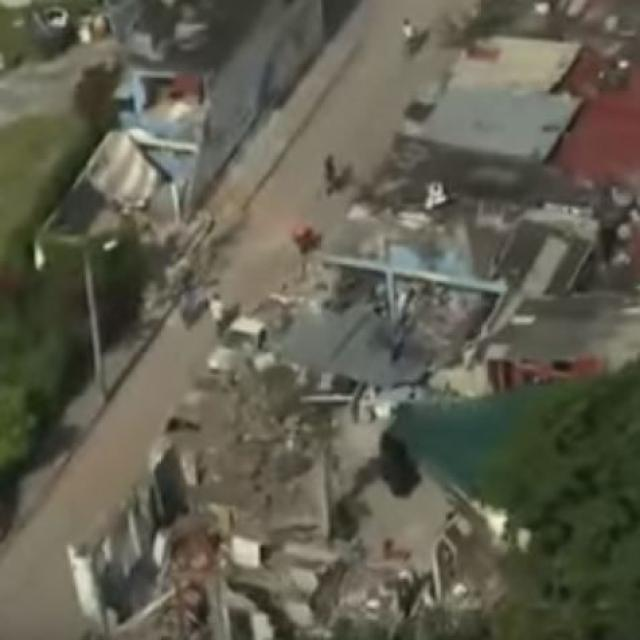collapsed_building: (154, 346, 438, 639)
